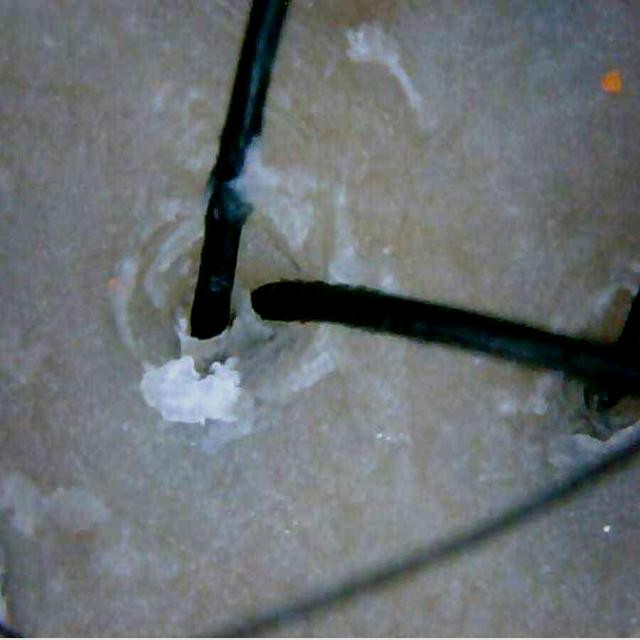d: (344, 19, 432, 131), (235, 138, 318, 250), (175, 287, 272, 373), (140, 355, 241, 425)
ds: (548, 250, 640, 339), (0, 472, 111, 537), (548, 398, 640, 474), (256, 323, 338, 399), (328, 183, 374, 285), (201, 389, 261, 452), (106, 254, 140, 360), (155, 217, 204, 271), (142, 251, 169, 311)
